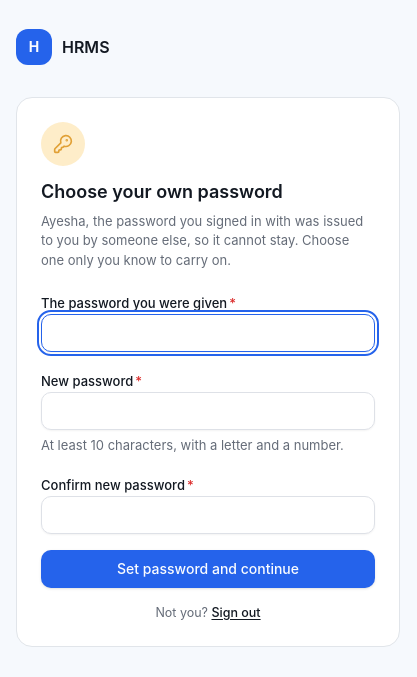
the forced password change gate › refuses a confirmation that does not match
Type "given-one-11" into the password field labelled "The password you were given*" at (208, 333), box [41, 314, 375, 352]
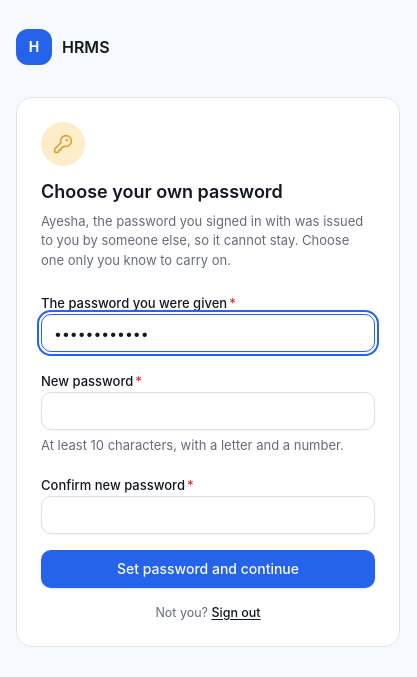
Type "chosen-secret-42" into the password field labelled "New password*" at (208, 411), box [41, 392, 375, 430]
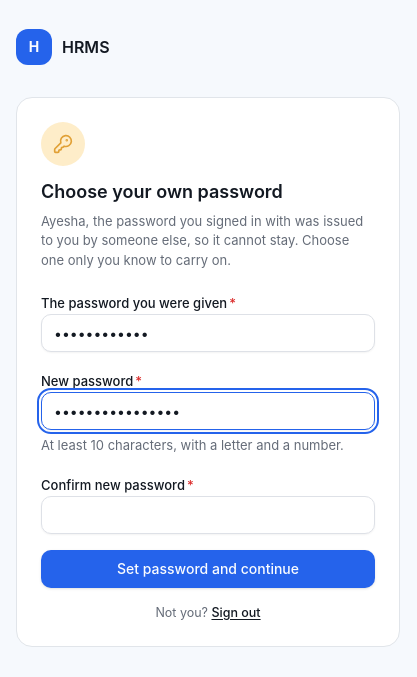
Type "chosen-secret-43" into the password field labelled "Confirm new password*" at (208, 515), box [41, 496, 375, 534]
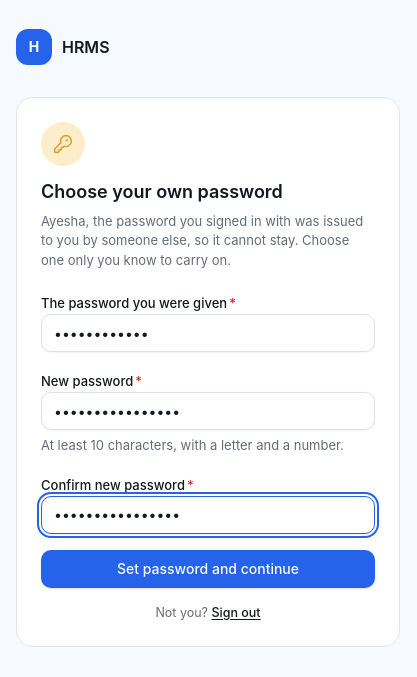
Click the button "Set password and continue" at (208, 569), box [41, 550, 375, 588]
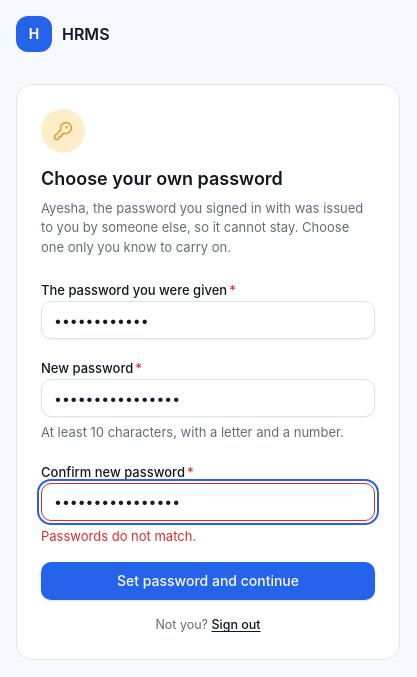
Expected: the text "Passwords do not match." is shown, [41, 528, 196, 544]
